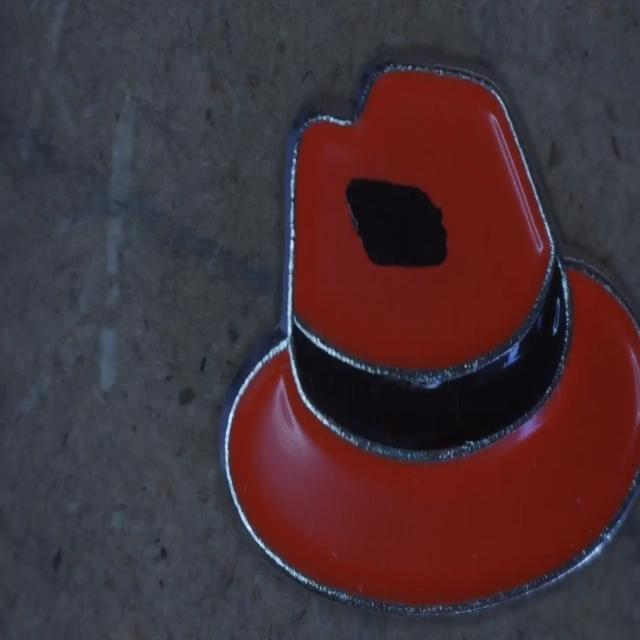Hatband: (291, 256, 570, 458)
Paint_Leak: (346, 178, 448, 267)
RedHatPin: (221, 67, 640, 611)
